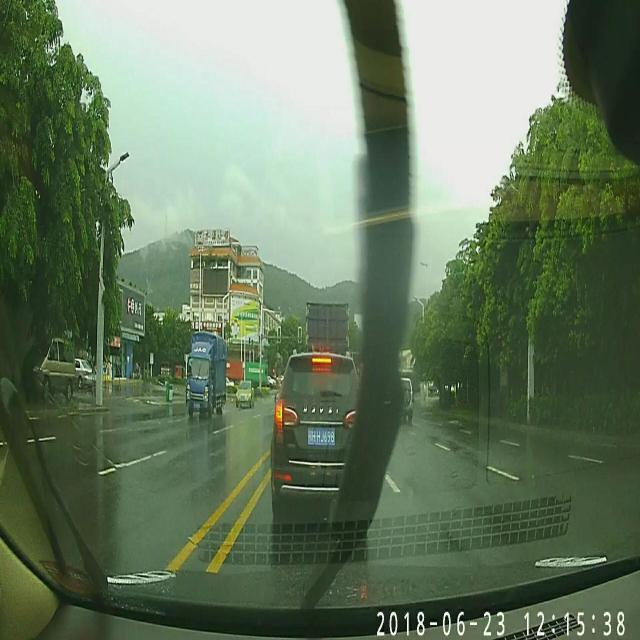car: (269, 348, 372, 526), (26, 338, 76, 400), (392, 378, 413, 424), (72, 359, 95, 389), (235, 383, 254, 409)
